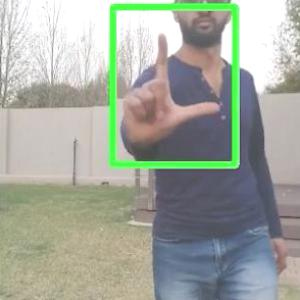land_hand: (118, 22, 224, 145)
